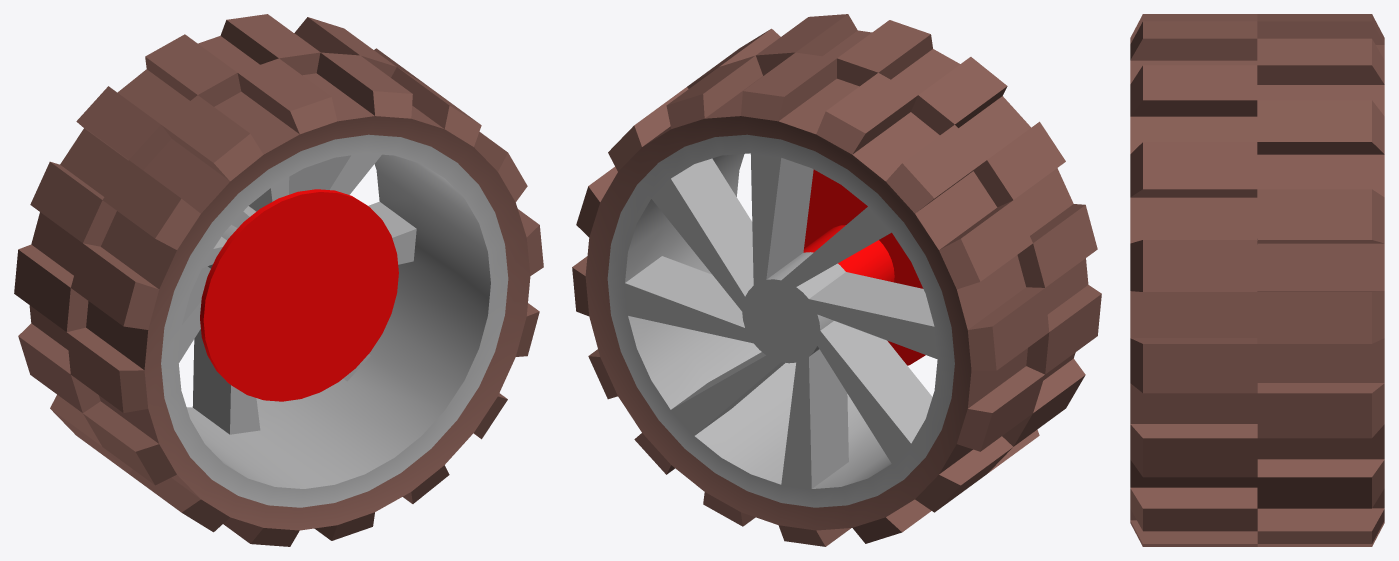
File: Wheel.fbx
3 renders of one model, left to right at view 1: azimuth 30°, elevation 25°; view 2: azimuth 150°, elevation 25°; view 3: azimuth 270°, elevation 25°, orthographic. The views are drawn at different scales.
Parts seen in each view (by area): view 1: Wheel; view 2: Wheel; view 3: Wheel.
Part boxes in pixels (x1,y1,x2,y2): Wheel: (14, 14, 543, 546); Wheel: (572, 14, 1101, 546); Wheel: (1130, 14, 1384, 546).
Size of the model in its own units: 220 by 220 by 105.
Materials: 1 (1 with a texture image).
